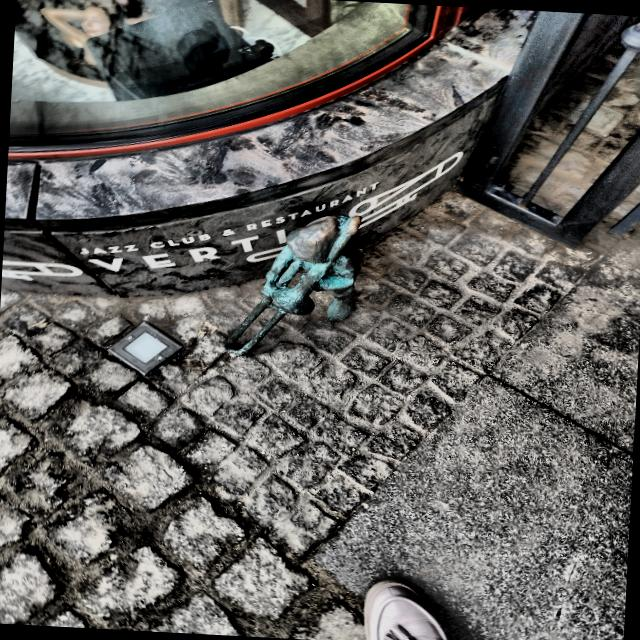Vertigus: (225, 216, 362, 355)
